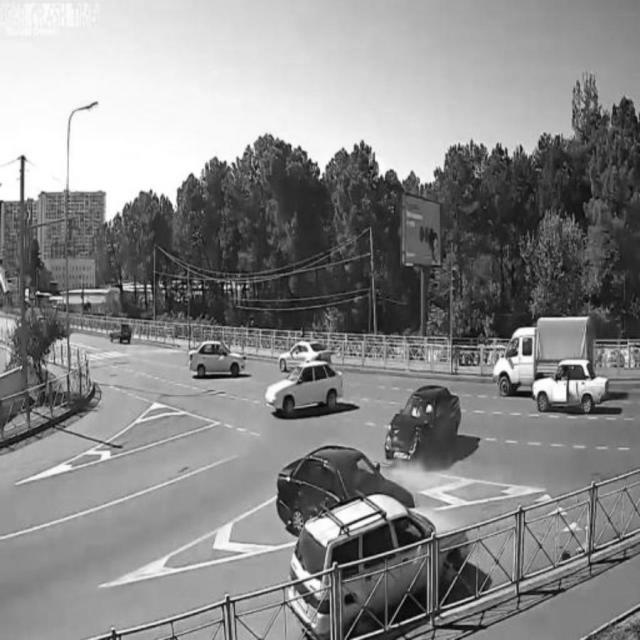vehicle: (288, 498, 468, 635), (271, 442, 407, 518), (491, 314, 587, 387), (384, 377, 462, 461), (266, 356, 344, 417), (533, 361, 611, 418), (189, 338, 249, 380), (278, 333, 326, 370), (105, 316, 133, 342)
